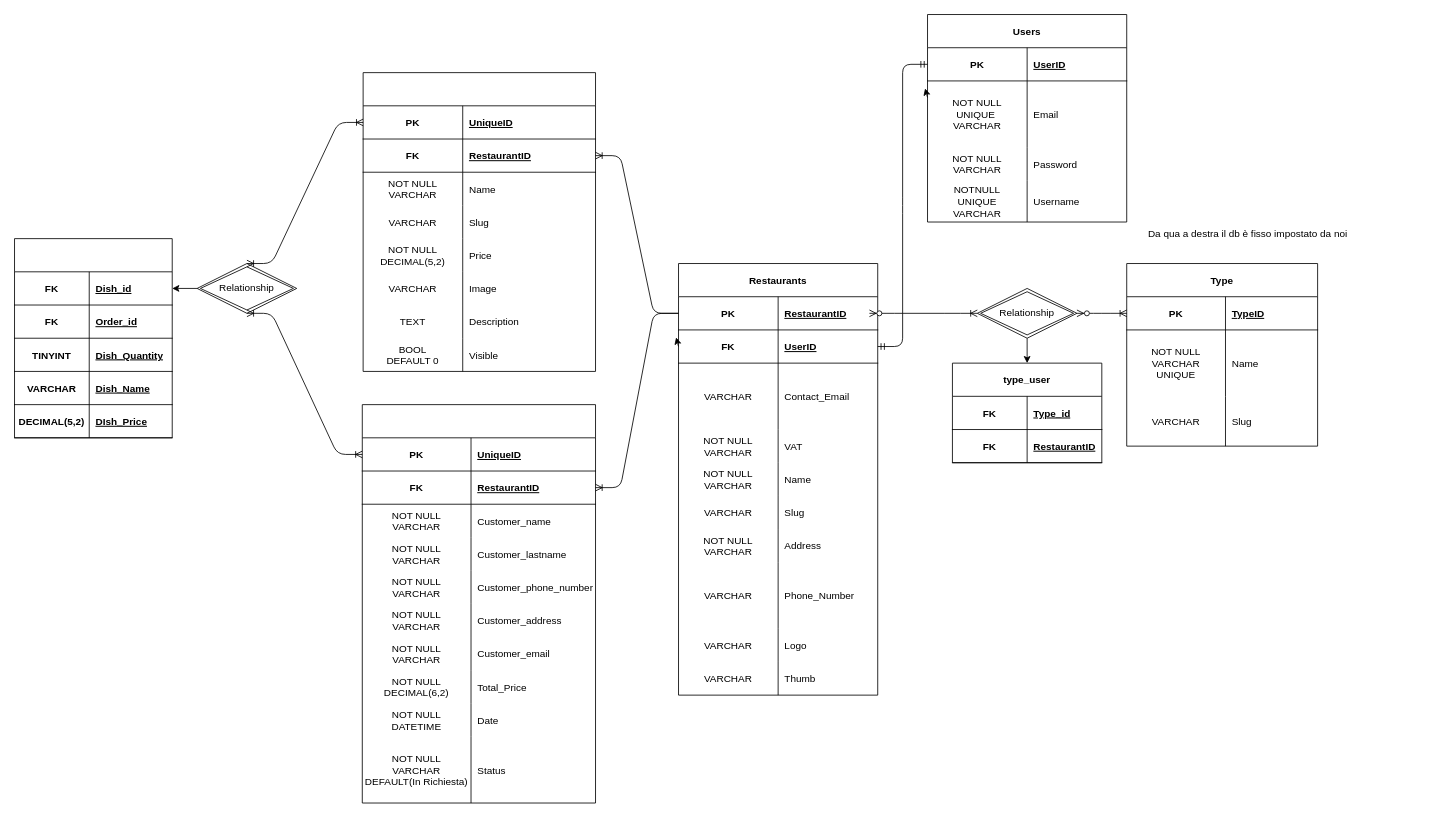
This 1440x818 diagram has some shape labels left out. The shapes that lost their labels are listed below. From the top down, each one's box as (x1, y1, x2, y2) in pixels, then its label:
(362, 72, 596, 371): Dishes
(14, 238, 172, 438): dish_order
(361, 404, 596, 803): Orders
